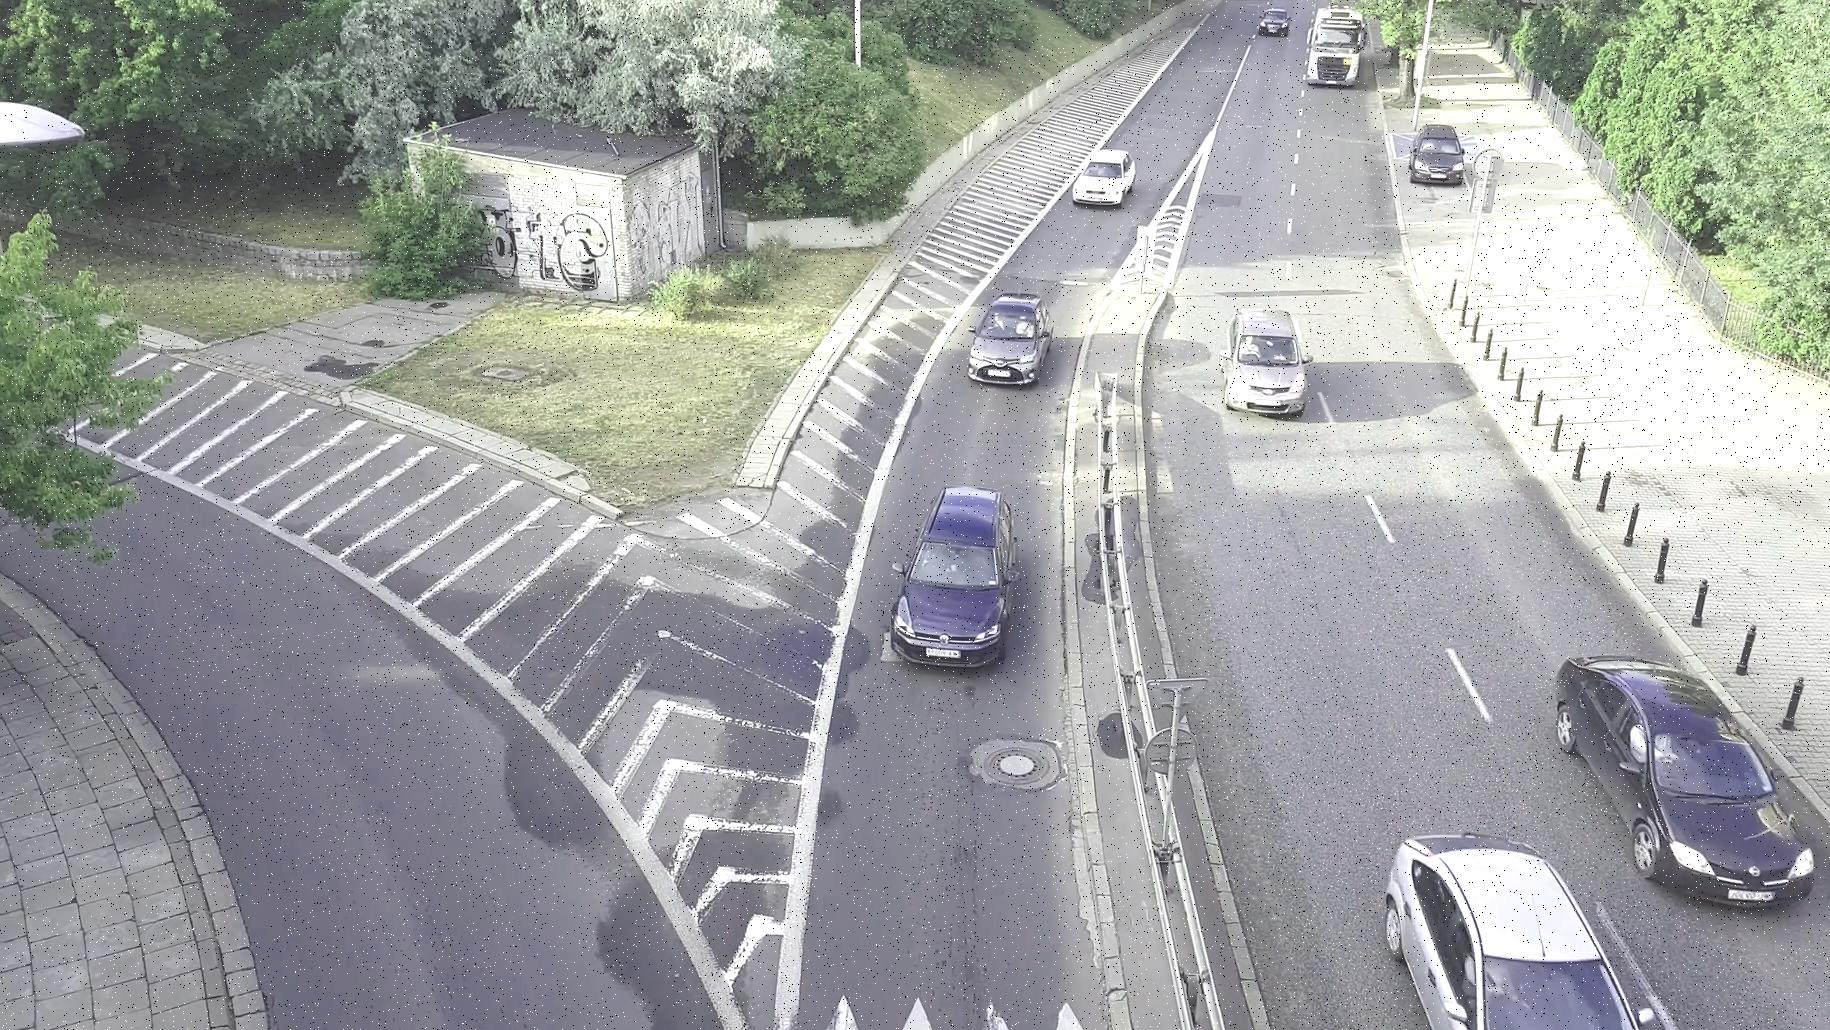bus: (1303, 4, 1366, 89)
car: (1552, 635, 1822, 918), (1360, 812, 1660, 1030), (876, 478, 1028, 675), (1213, 297, 1313, 426), (948, 289, 1060, 392), (1396, 117, 1471, 191), (1065, 142, 1142, 211), (1257, 5, 1291, 40)
